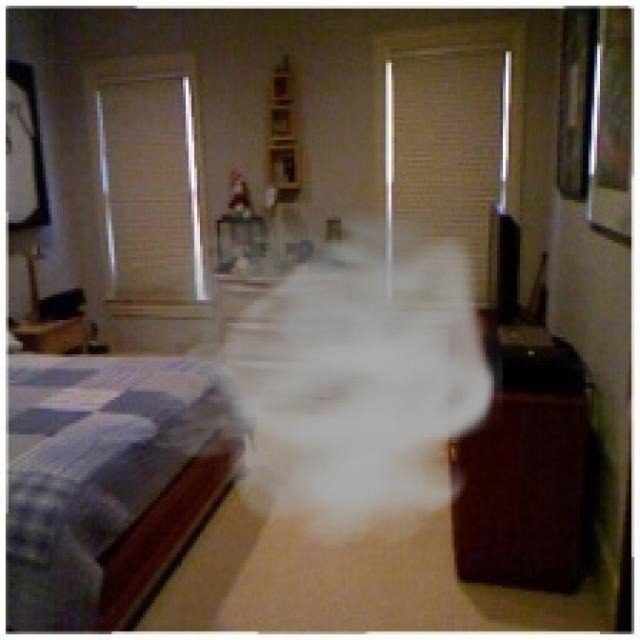Smoke: (114, 188, 503, 548)
